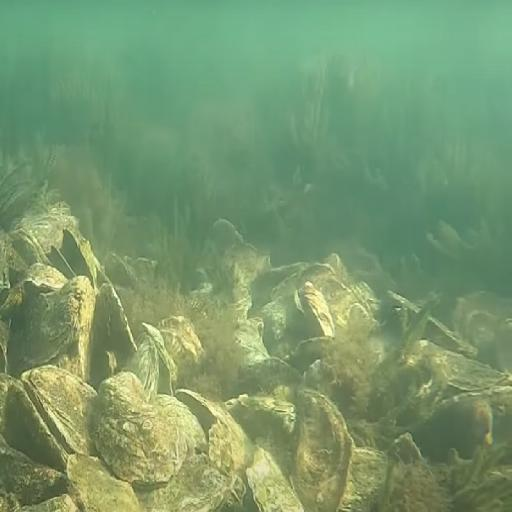Oyster-Closed: (98, 376, 192, 483), (11, 277, 97, 373), (297, 383, 353, 512), (20, 373, 99, 458), (6, 380, 67, 473), (418, 346, 509, 392), (65, 464, 147, 512), (1, 445, 63, 504), (247, 447, 302, 512), (123, 343, 162, 401)
Oyster-Open: (48, 222, 97, 294)
